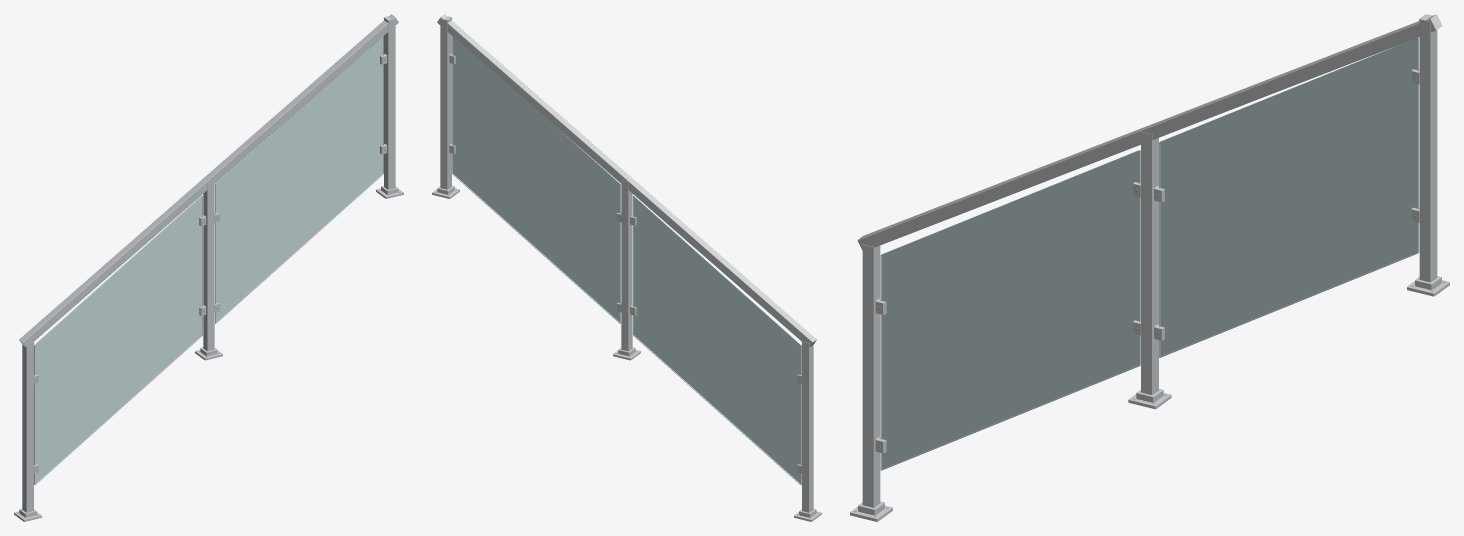
File: silver-glass-staircase-railing-05.glb
3 renders of one model, left to right at view 1: azimuth 30°, elevation 25°; view 2: azimuth 150°, elevation 25°; view 3: azimuth 330°, elevation 25°, orthographic. The views are drawn at different scales.
Visible parts, largest first — view 1: Clear glass infill, Rectangular upright, Continuous rectangular handrail, Polished glass edges, Glass clamp body; view 2: Clear glass infill, Rectangular upright, Continuous rectangular handrail, Polished glass edges, Glass clamp body; view 3: Clear glass infill, Rectangular upright, Continuous rectangular handrail, Polished glass edges, Glass clamp body, Square mounting foot, Post base cover.
Part boxes in pixels (x1=…): Clear glass infill: x1=35, y1=37, x2=382, y2=483; Rectangular upright: x1=22, y1=18, x2=395, y2=512; Continuous rectangular handrail: x1=19, y1=14, x2=398, y2=347; Polished glass edges: x1=34, y1=36, x2=383, y2=485; Glass clamp body: x1=34, y1=54, x2=387, y2=473; Clear glass infill: x1=453, y1=37, x2=800, y2=483; Rectangular upright: x1=440, y1=18, x2=813, y2=512; Continuous rectangular handrail: x1=437, y1=14, x2=816, y2=347; Polished glass edges: x1=452, y1=36, x2=801, y2=485; Glass clamp body: x1=449, y1=53, x2=801, y2=473; Clear glass infill: x1=882, y1=39, x2=1417, y2=468; Rectangular upright: x1=862, y1=20, x2=1437, y2=507; Continuous rectangular handrail: x1=857, y1=14, x2=1442, y2=250; Polished glass edges: x1=880, y1=37, x2=1419, y2=470; Glass clamp body: x1=875, y1=69, x2=1419, y2=453; Square mounting foot: x1=850, y1=280, x2=1449, y2=521; Post base cover: x1=858, y1=276, x2=1441, y2=515.
Size of the model in its own units: 2.52 by 2.61 by 0.12.
